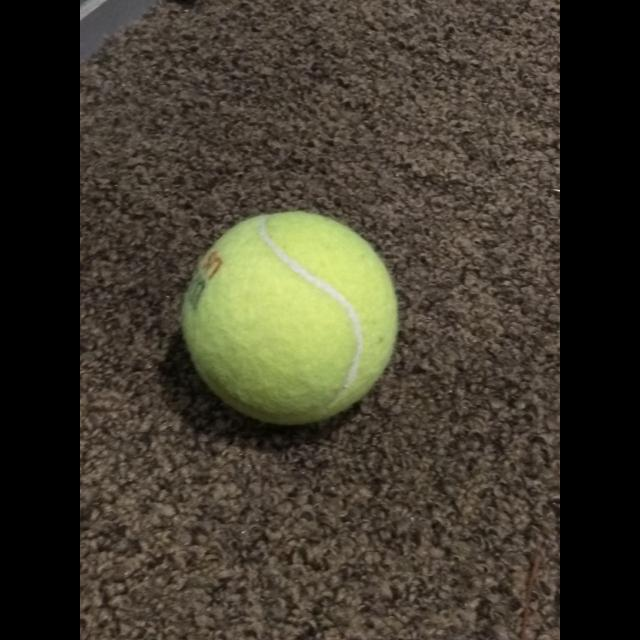tennis ball: (180, 210, 398, 428)
